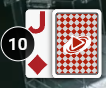j: (26, 10, 49, 35)
